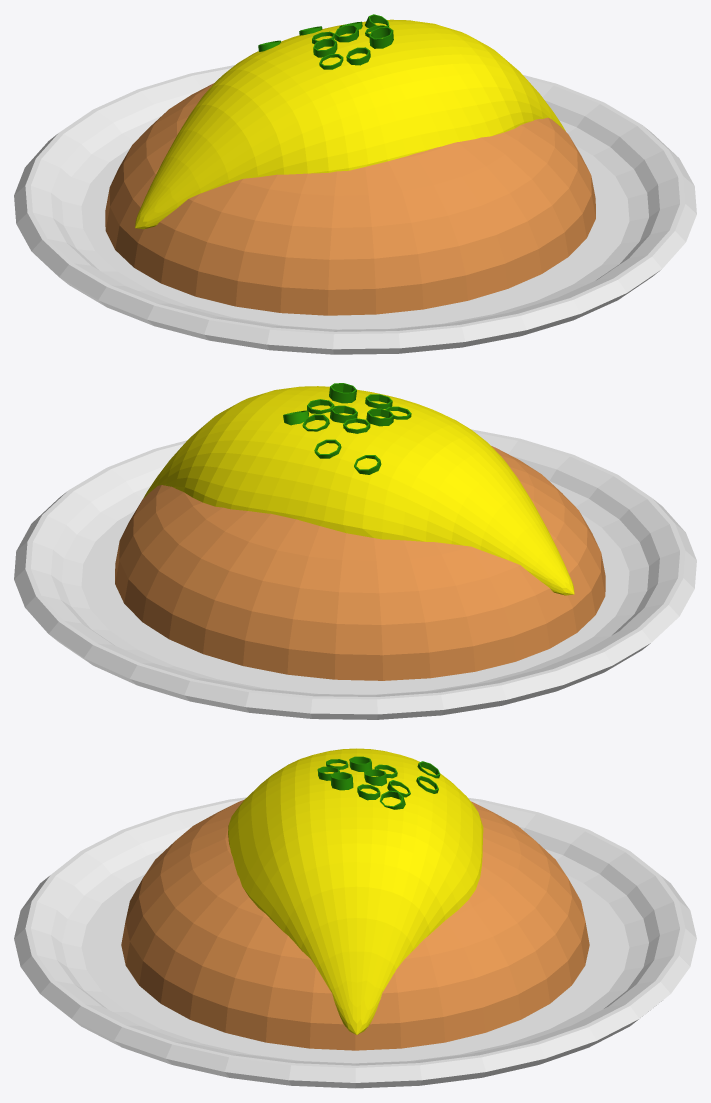
Rendered from PlaneWithEgg.fbx.
3 renders of one model, top to bottom at view 1: azimuth 30°, elevation 25°; view 2: azimuth 150°, elevation 25°; view 3: azimuth 270°, elevation 25°, orthographic.
Visible parts, largest first — view 1: Omlet; view 2: Omlet; view 3: Omlet.
Part boxes in pixels (x1,y1,x2,y2): Omlet: (14,14,696,354); Omlet: (14,383,696,719); Omlet: (14,748,696,1088).
Size of the model in its own units: 0.9898 by 0.3029 by 0.9898.
3 materials, 3 textured.
